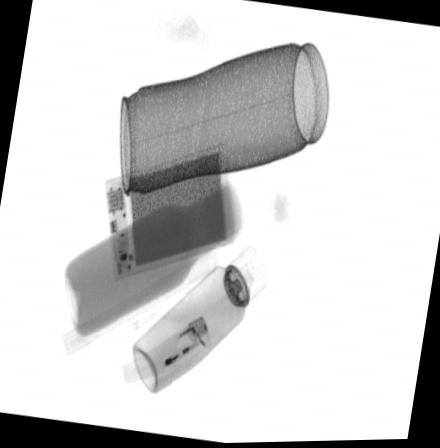Lighter: (124, 316, 210, 386)
Powerbank: (104, 144, 235, 280)
Sprayer: (132, 246, 267, 395)
